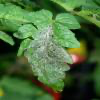Tomato leaf late blight: (14, 9, 80, 94)
